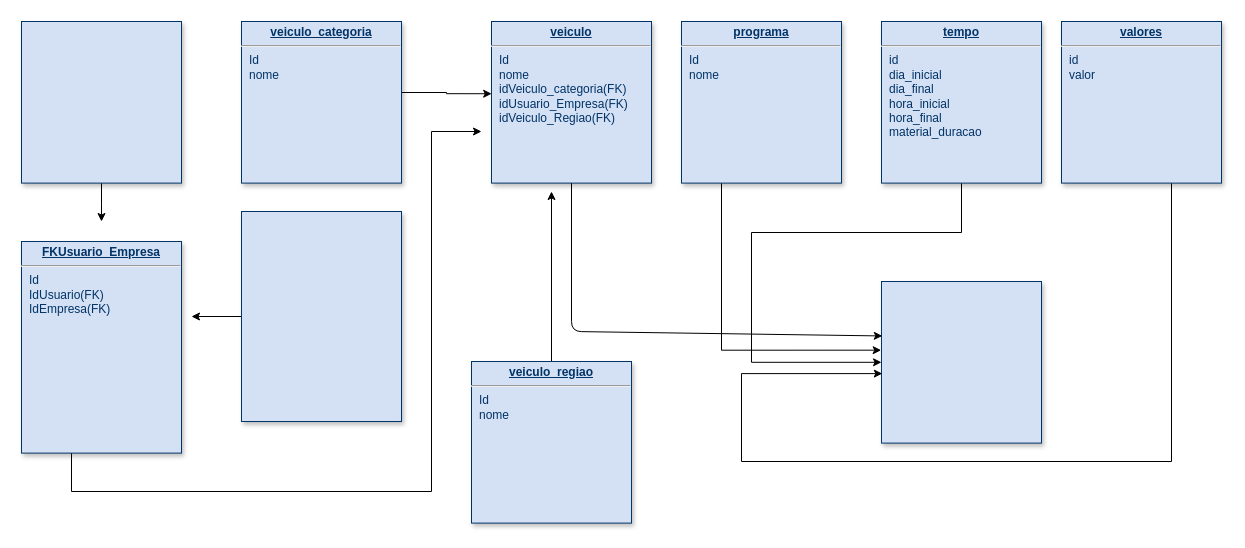
Some shapes in this 1245 by 548 pixel diagram are drawn without their labels. Here are the shapes that lost their labels. From the top down, the centre of each, then its label:
At (x=102, y=103): "Usuario Id nome cpf endereço numero bairro cep cidade estado".
At (x=322, y=317): "empresa Id nome cnpj endereço numero bairro cep cidade estado".
At (x=962, y=363): "FKProgramacao id idVeiculo(FK) IdPrograma(FK) idTempo(FK) idValores(FK)".
